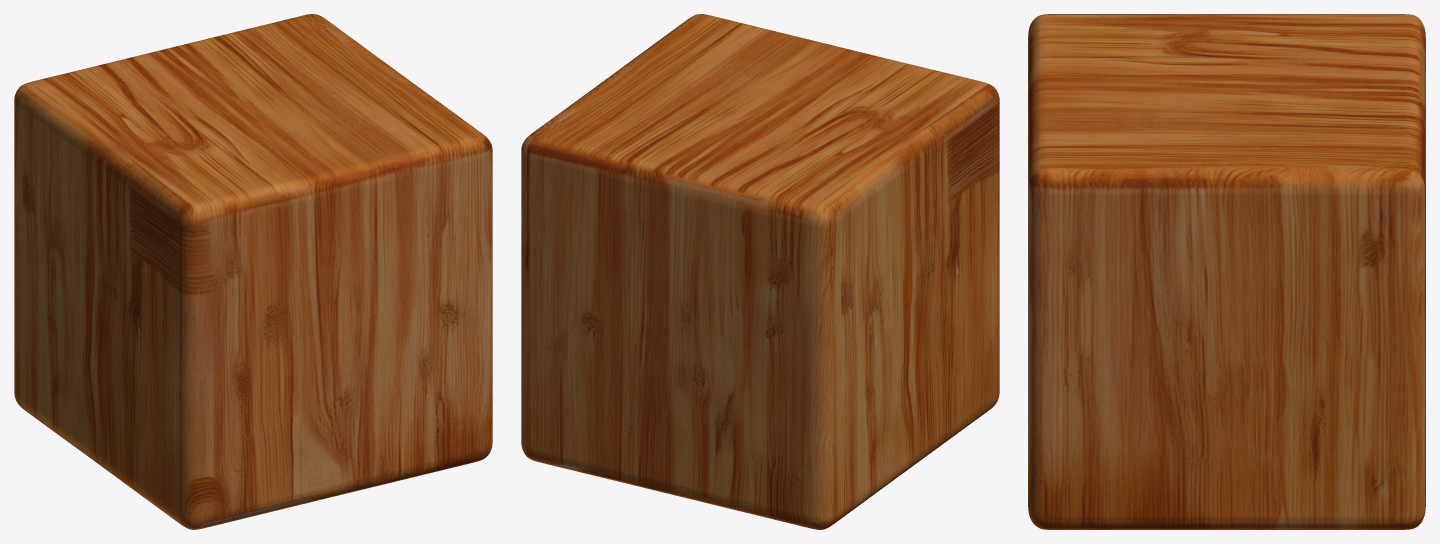
File: wood.glb
3 views of the same model, side by side, from view 1: azimuth 30°, elevation 25°; view 2: azimuth 150°, elevation 25°; view 3: azimuth 270°, elevation 25° (orthographic). The views are drawn at different scales.
Parts seen in each view (by area): view 1: tripo_node_ed876c4d-9b42-4143-8ae5-5f4914fa6e3c; view 2: tripo_node_ed876c4d-9b42-4143-8ae5-5f4914fa6e3c; view 3: tripo_node_ed876c4d-9b42-4143-8ae5-5f4914fa6e3c.
Part boxes in pixels (bbox=[...]): tripo_node_ed876c4d-9b42-4143-8ae5-5f4914fa6e3c: bbox=[14, 14, 492, 529]; tripo_node_ed876c4d-9b42-4143-8ae5-5f4914fa6e3c: bbox=[521, 14, 999, 529]; tripo_node_ed876c4d-9b42-4143-8ae5-5f4914fa6e3c: bbox=[1028, 14, 1425, 529].
Size of the model in its own units: 0.95 by 0.9493 by 0.9499.
1 material, 1 textured.
